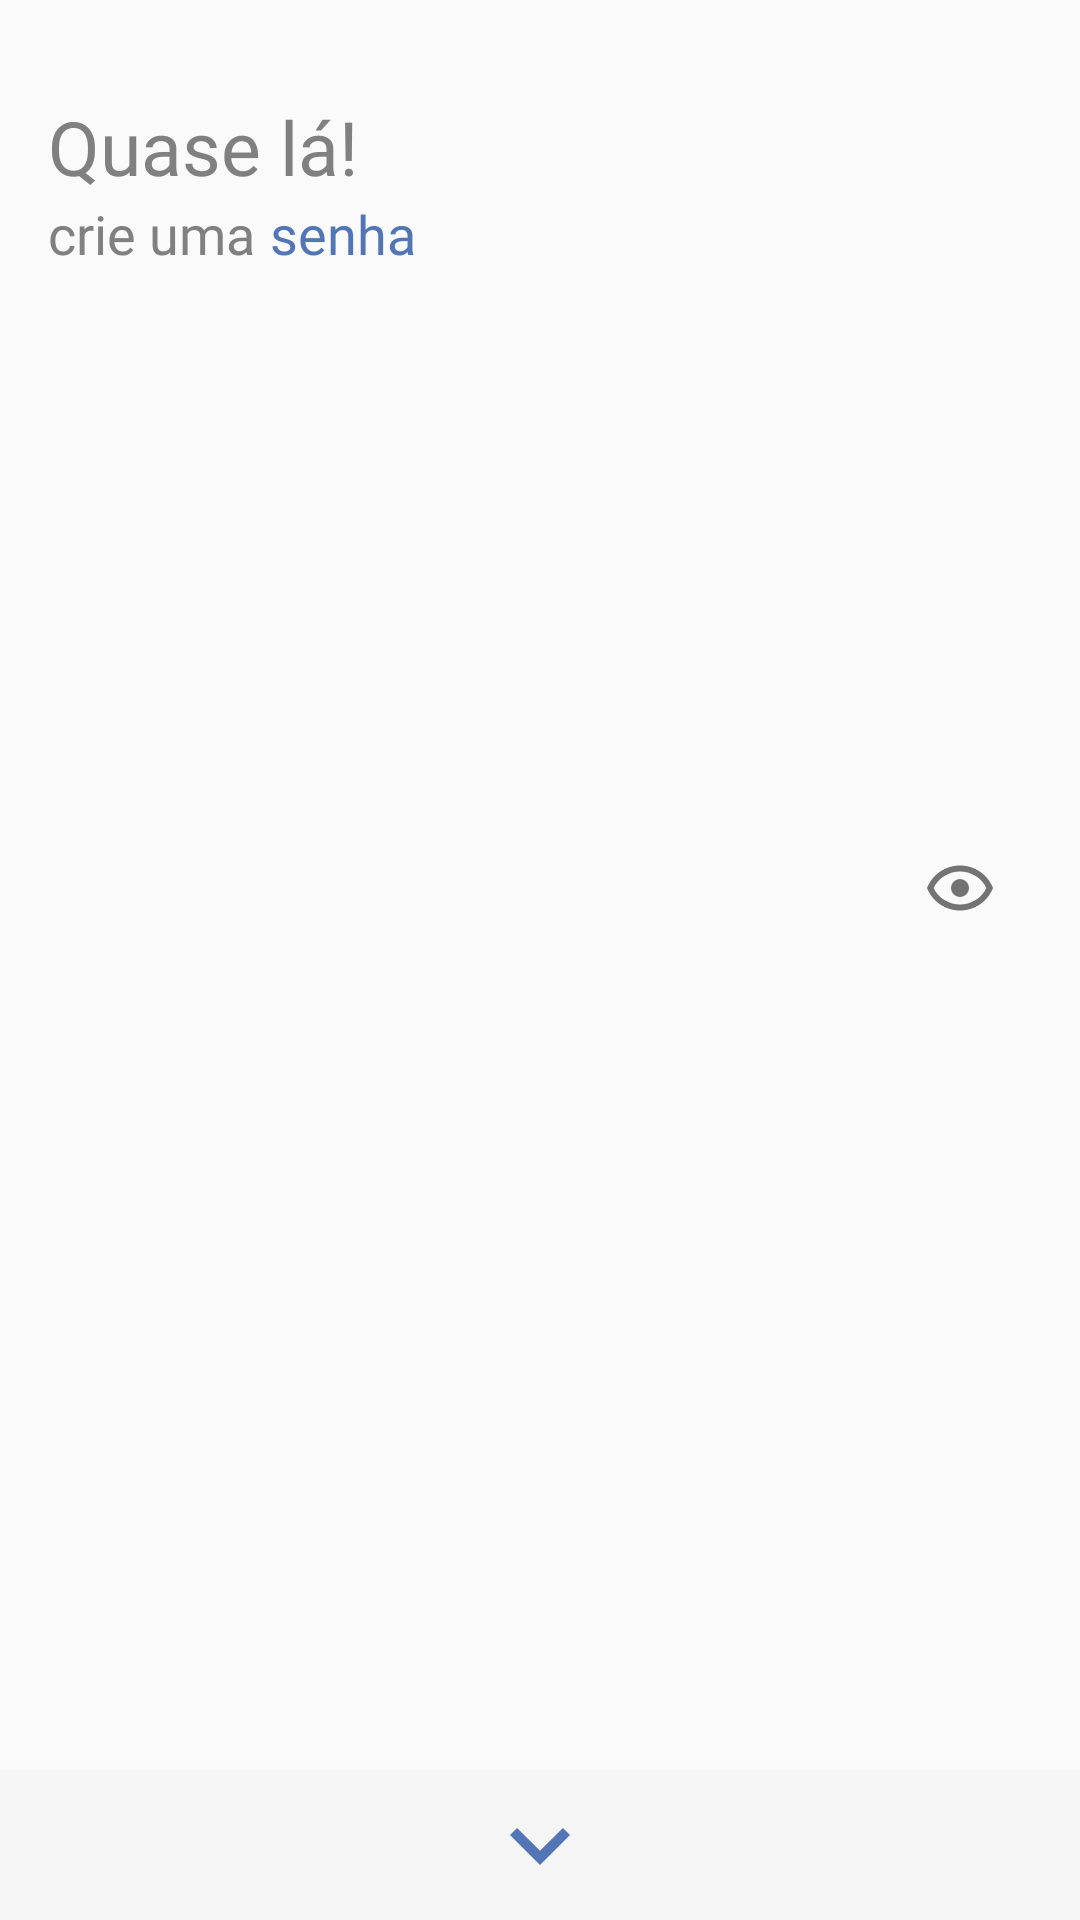

Screen size 1080 x 1920. Icon name, then its box in pixels as {"x1": x1, "y1": y1, "x2": x2, "y2": y2}:
chevron down: {"x1": 510, "y1": 1828, "x2": 570, "y2": 1865}
